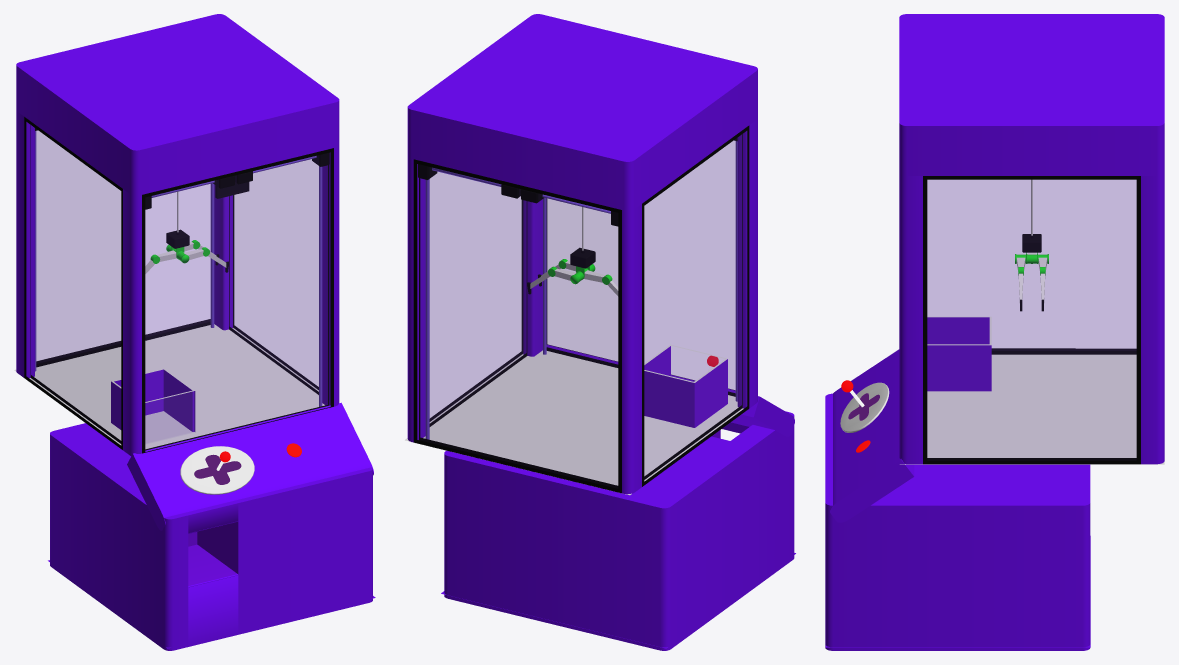
File: claw-machine.glb
3 views of the same model, side by side, from view 1: azimuth 30°, elevation 25°; view 2: azimuth 150°, elevation 25°; view 3: azimuth 270°, elevation 25° (orthographic). The views are drawn at different scales.
Parts seen in each view (by area): view 1: SM_Mirror, Plane.001, SM_Body_Top, Plane, SM_Body_InnerGlass, SM_VerticalBar, SM_HorizontalBar_Forward; view 2: SM_Mirror, SM_Body_Top, Plane.001, Plane, SM_Body_InnerGlass, SM_VerticalBar, SM_HorizontalBar_Forward, SM_Hand_Holder; view 3: SM_Mirror, SM_Body_Top, Plane.001, Plane, SM_Body_InnerGlass.
Part boxes in pixels (x1,y1,x2,y2): SM_Mirror: (24,117,333,453); Plane.001: (48,402,375,650); SM_Body_Top: (16,14,339,455); Plane: (14,324,324,449); SM_Body_InnerGlass: (111,368,195,442); SM_VerticalBar: (35,131,322,406); SM_HorizontalBar_Forward: (35,128,329,209); SM_Mirror: (413,125,749,493); SM_Body_Top: (407,14,757,494); Plane.001: (441,344,795,650); Plane: (405,350,743,495); SM_Body_InnerGlass: (644,344,727,427); SM_VerticalBar: (425,141,737,439); SM_HorizontalBar_Forward: (418,138,737,226); SM_Hand_Holder: (570,247,595,284); SM_Mirror: (923,176,1140,464); SM_Body_Top: (899,14,1164,464); Plane.001: (825,349,1090,650); Plane: (900,354,1164,464); SM_Body_InnerGlass: (927,316,991,391).
Size of the model in its own units: 10.03 by 21.83 by 12.8.
